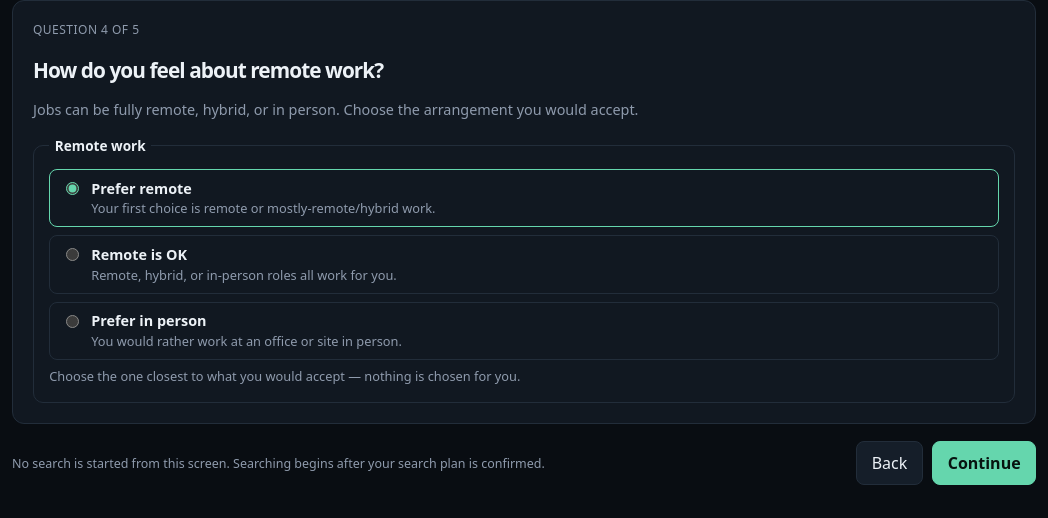
Test: PreferencesStep guided onboarding › preserves earlier answers when navigating back
What coordinates should you click on to do the following:
click the button "Back"
I would click on:
 (890, 463)
Its box is [856, 441, 923, 485].
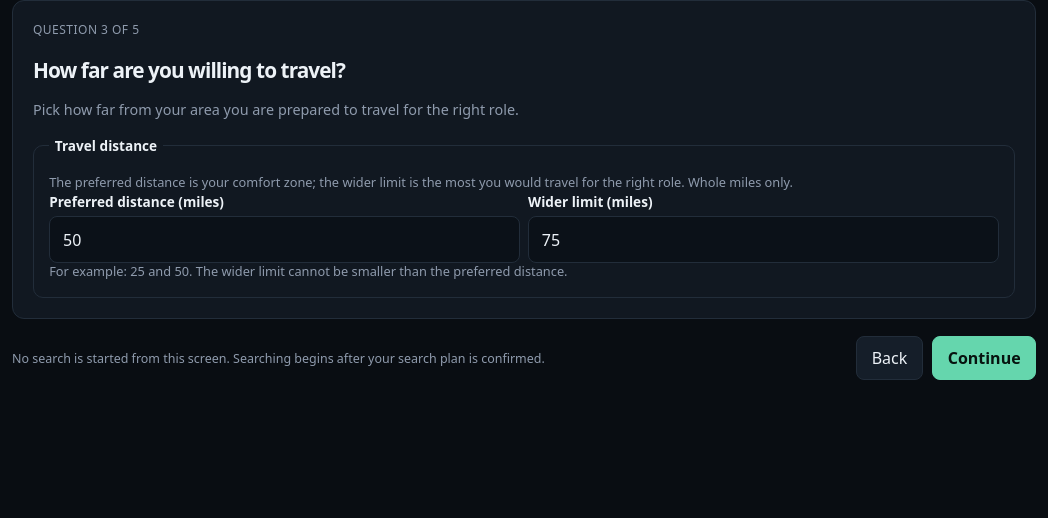
Expected: the heading "How far are you willing to travel?" is shown, [33, 56, 345, 84]
Expected: the field labelled "Preferred distance (miles)" holds "50", [49, 216, 520, 263]
Expected: the field labelled "Wider limit (miles)" holds "75", [528, 216, 999, 263]
What coordinates should you click on to do the following:
click the button "Back"
I would click on:
 (890, 358)
Its box is [856, 336, 923, 380].
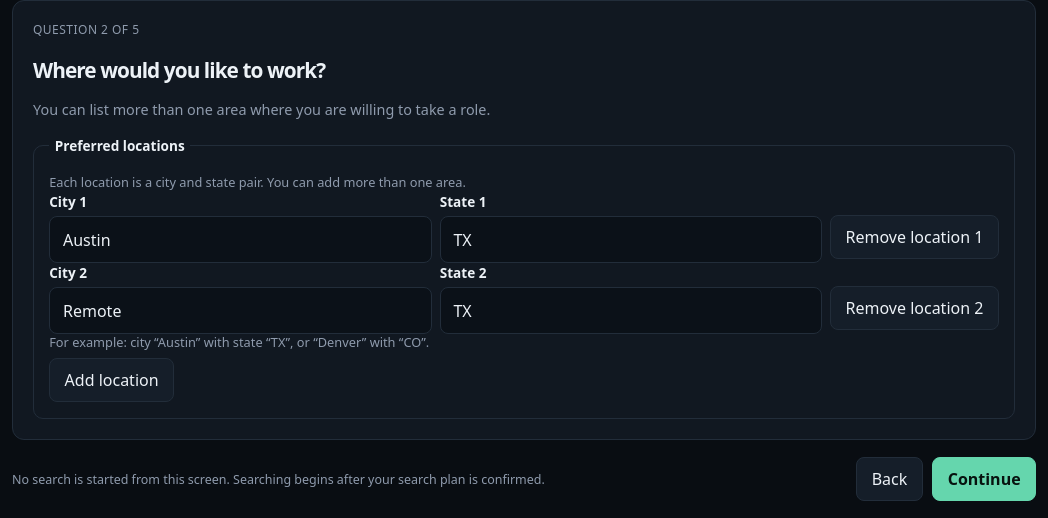
Expected: the heading "Where would you like to work?" is shown, [33, 56, 325, 84]
What coordinates should you click on to do the following:
click the button "Back"
I would click on:
 (890, 479)
Its box is [856, 457, 923, 501].
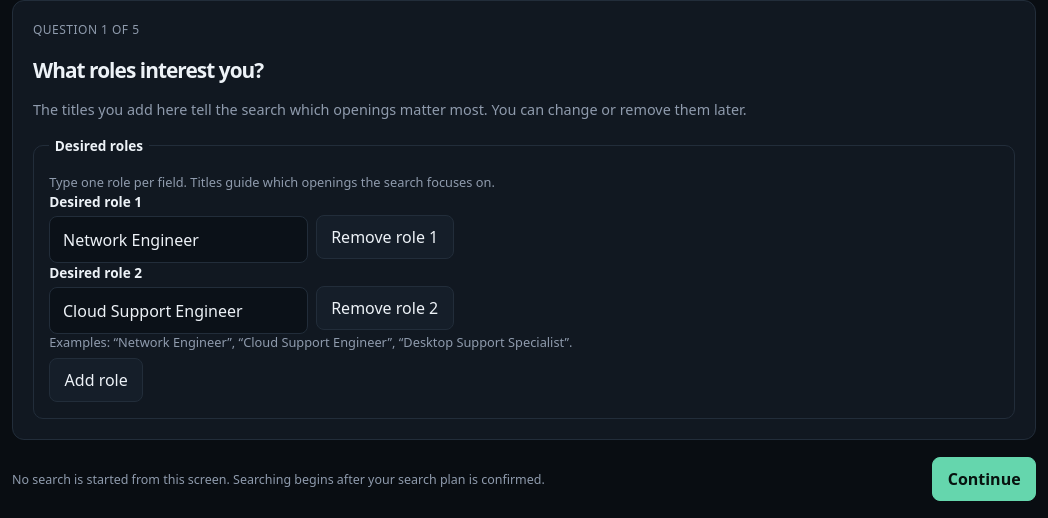
Expected: the heading "What roles interest you?" is shown, [33, 56, 263, 84]
